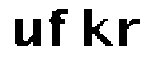f: (47, 5, 71, 47)
k: (79, 4, 114, 48)
r: (117, 16, 143, 49)
u: (10, 14, 43, 49)
